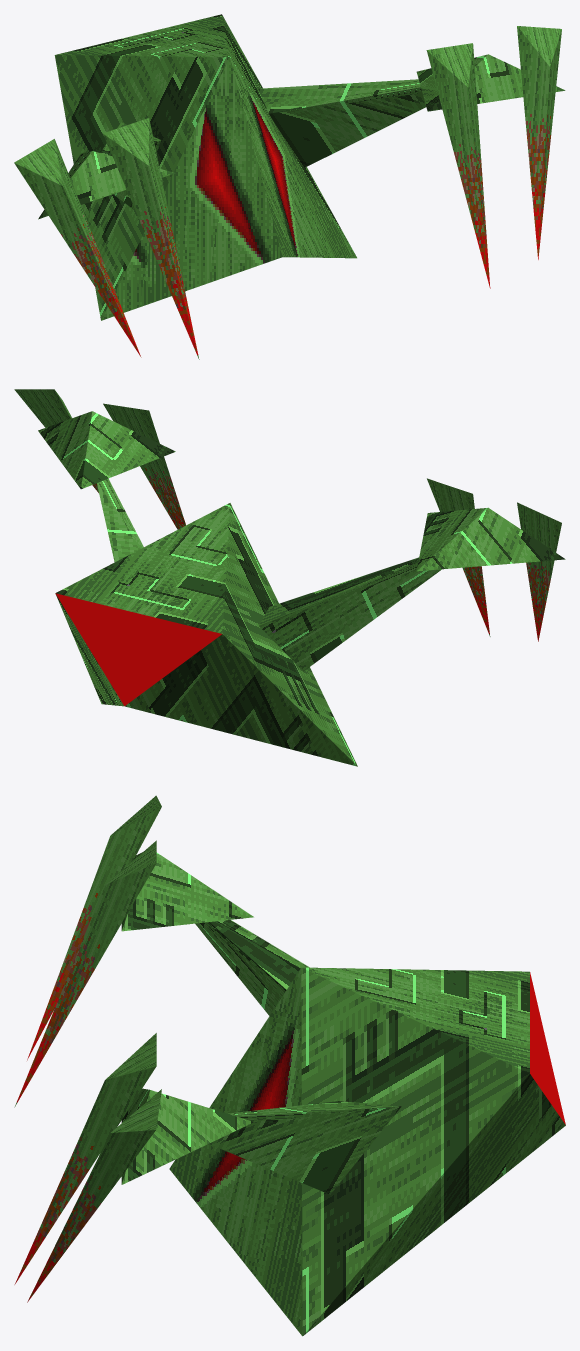
File: Medium_Lifter.obj
The picture shows the model from 3 angles, top to bottom: view 1: azimuth 30°, elevation 25°; view 2: azimuth 150°, elevation 25°; view 3: azimuth 270°, elevation 25°; orthographic projection. The views are drawn at different scales.
Visible parts, largest first — view 1: Medium_Lifter; view 2: Medium_Lifter; view 3: Medium_Lifter.
Part boxes in pixels (left/top/right/bottom): Medium_Lifter: left=14, top=14, right=565, bottom=359; Medium_Lifter: left=14, top=389, right=565, bottom=766; Medium_Lifter: left=14, top=795, right=565, bottom=1336.
Size of the model in its own units: 10 by 4.33 by 6.97.
4 materials, 3 textured.
